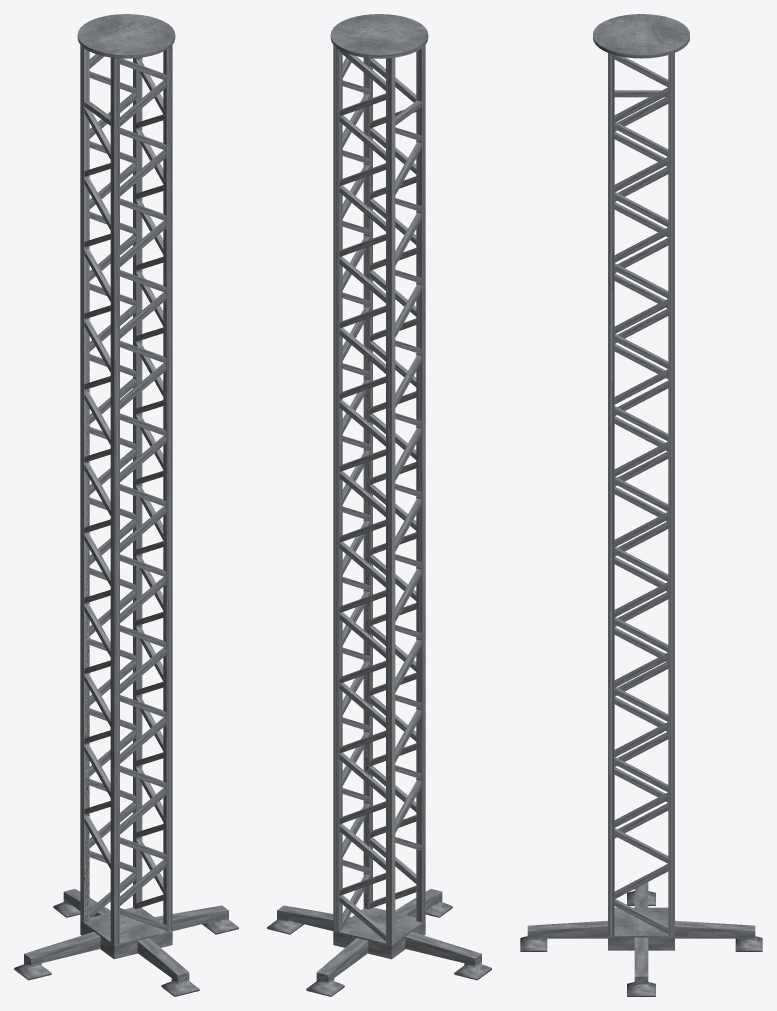
File: final_test_maybe-milk.obj
3 renders of one model, left to right at view 1: azimuth 30°, elevation 25°; view 2: azimuth 150°, elevation 25°; view 3: azimuth 270°, elevation 25°, orthographic.
Visible parts, largest first — view 1: grundbau_ID9_Mat.001; view 2: grundbau_ID9_Mat.001; view 3: grundbau_ID9_Mat.001.
Part boxes in pixels (<box>): grundbau_ID9_Mat.001: <box>14,14,238,996</box>; grundbau_ID9_Mat.001: <box>267,14,491,996</box>; grundbau_ID9_Mat.001: <box>520,14,762,996</box>.
Bounding box in the file's own units: 9.02 × 37.47 × 9.02.
Materials: 1 (1 with a texture image).
